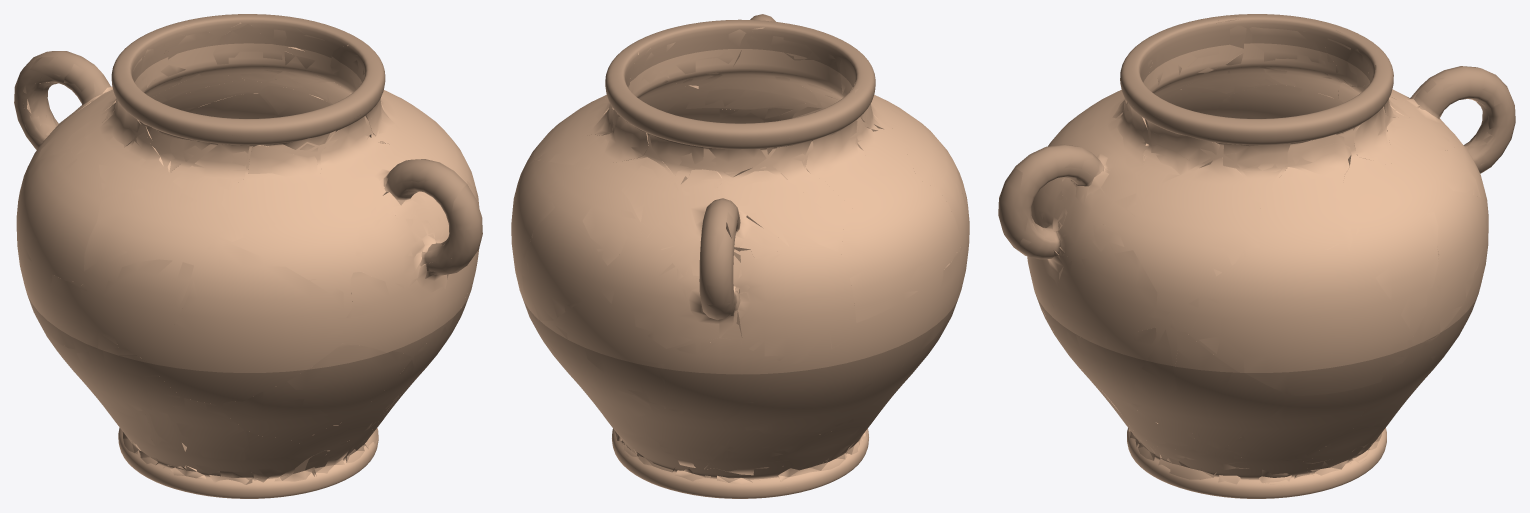
The model's file is Broken Pot.fbx.
3 views of the same model, side by side, from view 1: azimuth 30°, elevation 25°; view 2: azimuth 150°, elevation 25°; view 3: azimuth 270°, elevation 25° (orthographic).
Visible parts, largest first — view 1: Pot, Pot_cell_063, Pot_cell_061, Pot_cell_072, Pot_cell_062, Pot_cell_009, Pot_cell_010, Pot_cell_032, Pot_cell_003, Pot_cell_052, Pot_cell_073, Pot_cell_049 (+26 smaller); view 2: Pot, Pot_cell_052, Pot_cell_017, Pot_cell, Pot_cell_023, Pot_cell_092, Pot_cell_024, Pot_cell_021, Pot_cell_061, Pot_cell_032, Pot_cell_066, Pot_cell_027 (+25 smaller); view 3: Pot, Pot_cell_083, Pot_cell_082, Pot_cell_014, Pot_cell_089, Pot_cell_076, Pot_cell_001, Pot_cell_052, Pot_cell_005, Pot_cell_092, Pot_cell_011, Pot_cell_029 (+18 smaller).
Part boxes in pixels (<box>): Pot: <box>14,14,482,498</box>; Pot_cell_063: <box>175,237,343,339</box>; Pot_cell_061: <box>84,186,196,271</box>; Pot_cell_072: <box>214,178,333,241</box>; Pot_cell_062: <box>287,343,411,389</box>; Pot_cell_009: <box>171,398,252,484</box>; Pot_cell_010: <box>103,259,193,306</box>; Pot_cell_032: <box>43,275,116,349</box>; Pot_cell_003: <box>76,346,179,410</box>; Pot_cell_052: <box>16,153,77,261</box>; Pot_cell_073: <box>320,114,394,192</box>; Pot_cell_049: <box>173,135,249,189</box>; Pot: <box>511,14,969,498</box>; Pot_cell_052: <box>841,194,922,322</box>; Pot_cell_017: <box>736,254,853,363</box>; Pot_cell: <box>718,166,838,251</box>; Pot_cell_023: <box>667,342,770,421</box>; Pot_cell_092: <box>805,120,861,201</box>; Pot_cell_024: <box>601,263,691,348</box>; Pot_cell_021: <box>745,373,871,434</box>; Pot_cell_061: <box>898,123,960,232</box>; Pot_cell_032: <box>902,244,965,366</box>; Pot_cell_066: <box>582,205,641,265</box>; Pot_cell_027: <box>769,140,846,216</box>; Pot: <box>998,14,1515,498</box>; Pot_cell_083: <box>1179,298,1412,395</box>; Pot_cell_082: <box>1178,157,1260,276</box>; Pot_cell_014: <box>1062,250,1169,319</box>; Pot_cell_089: <box>1375,208,1439,328</box>; Pot_cell_076: <box>1223,405,1357,460</box>; Pot_cell_001: <box>1272,167,1352,251</box>; Pot_cell_052: <box>1214,84,1342,118</box>; Pot_cell_005: <box>1170,319,1238,448</box>; Pot_cell_092: <box>1249,27,1331,86</box>; Pot_cell_011: <box>1146,111,1219,182</box>; Pot_cell_029: <box>1413,248,1482,351</box>.
Bounding box in the file's own units: 31.85 × 28.66 × 35.55.
